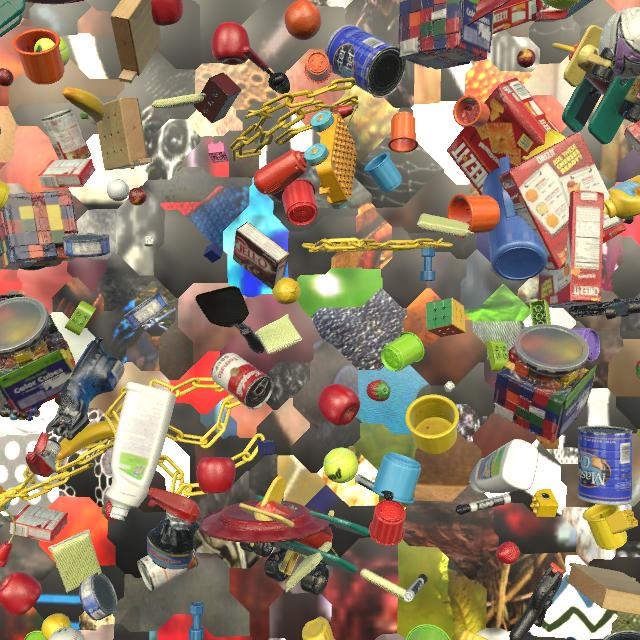ycb_002_master_chef_can: (325, 25, 406, 98), (577, 425, 633, 505), (603, 630, 640, 640)
ycb_003_cracker_box: (498, 132, 627, 270), (446, 78, 562, 196), (538, 190, 604, 308), (493, 0, 545, 34)
ycb_005_tomato_soup_can: (211, 352, 274, 410), (137, 548, 198, 591), (41, 109, 92, 160)
ycb_006_mustard_bottle: (604, 175, 640, 219), (302, 617, 334, 640), (458, 630, 489, 640)
ycb_007_tuna_fish_can: (79, 572, 118, 621), (124, 292, 170, 330), (63, 233, 110, 257)
ycb_008_pudding_box: (233, 222, 290, 290)
ycb_009_gelatin_box: (9, 505, 68, 543), (38, 159, 95, 188), (624, 120, 640, 154), (638, 84, 640, 96)
ycb_011_banana: (56, 420, 118, 460), (62, 88, 104, 125)
ycb_012_strawberry: (496, 542, 520, 564), (366, 380, 391, 401), (102, 500, 119, 521), (635, 360, 640, 379), (0, 226, 1, 227)
ycb_013_apple: (0, 572, 42, 616), (317, 384, 360, 426), (211, 22, 250, 65), (197, 457, 236, 494), (151, 0, 183, 26)
ycb_014_lemon: (272, 277, 301, 305), (41, 613, 71, 640)
ycb_017_orange: (284, 0, 321, 40)
ycb_018_plum: (0, 128, 1, 135)
